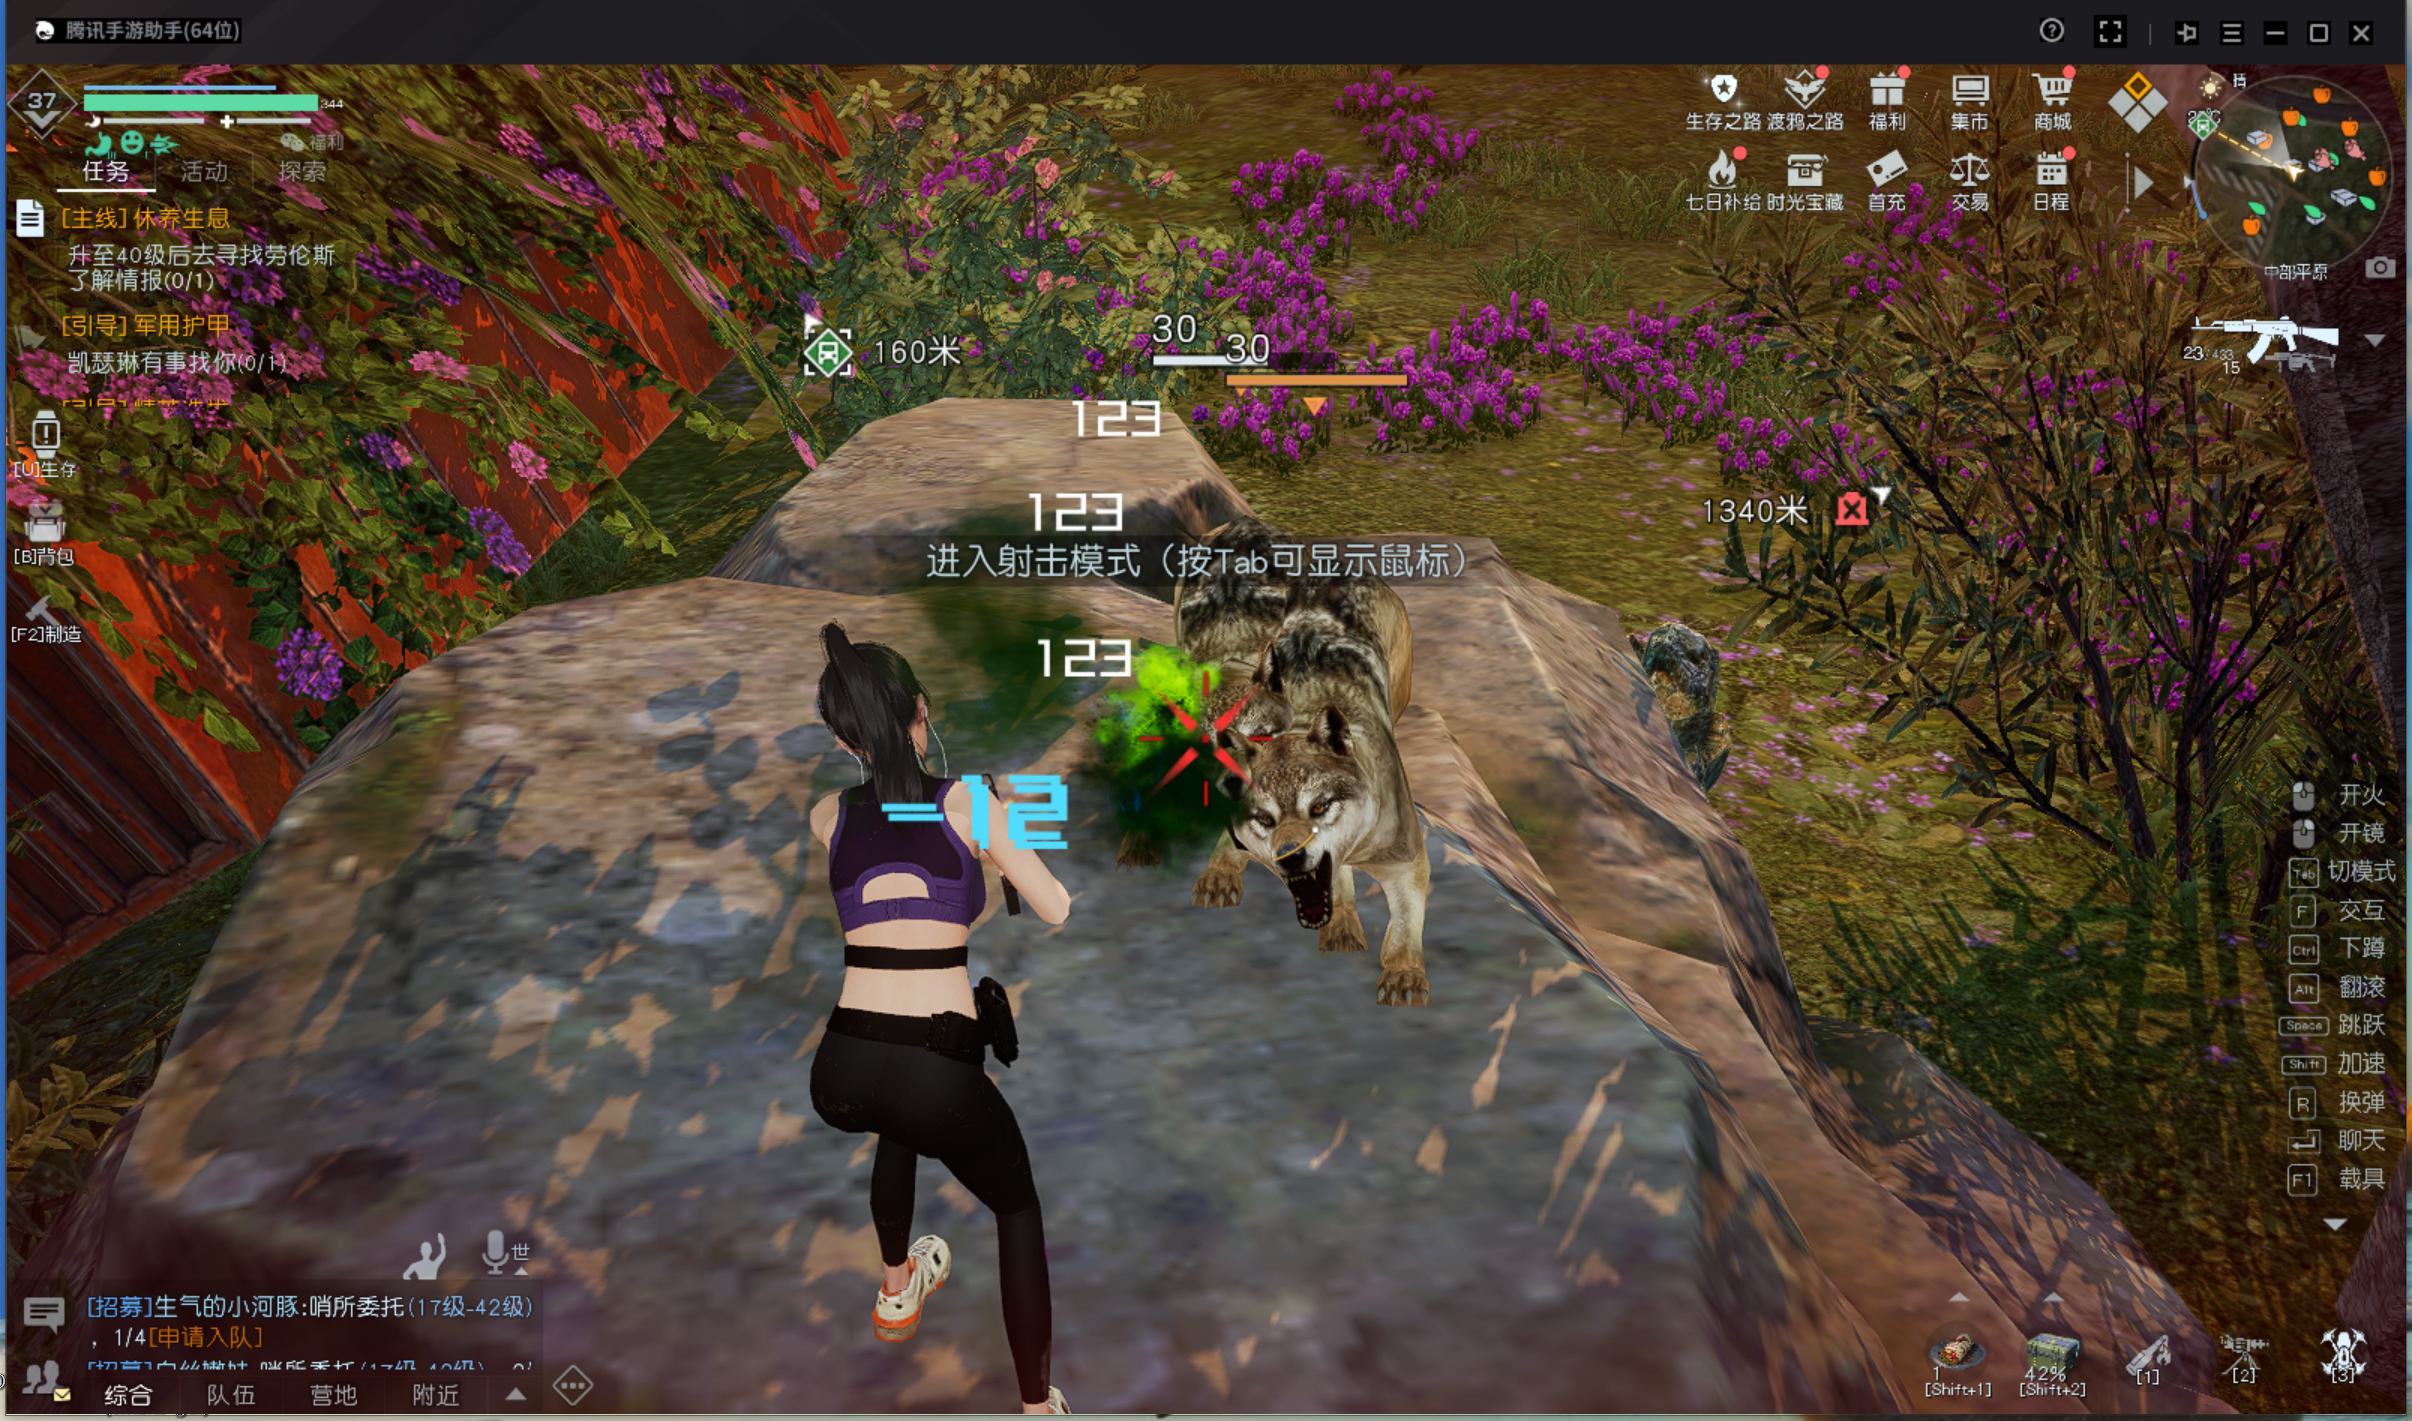stone: (1617, 602, 1746, 800)
